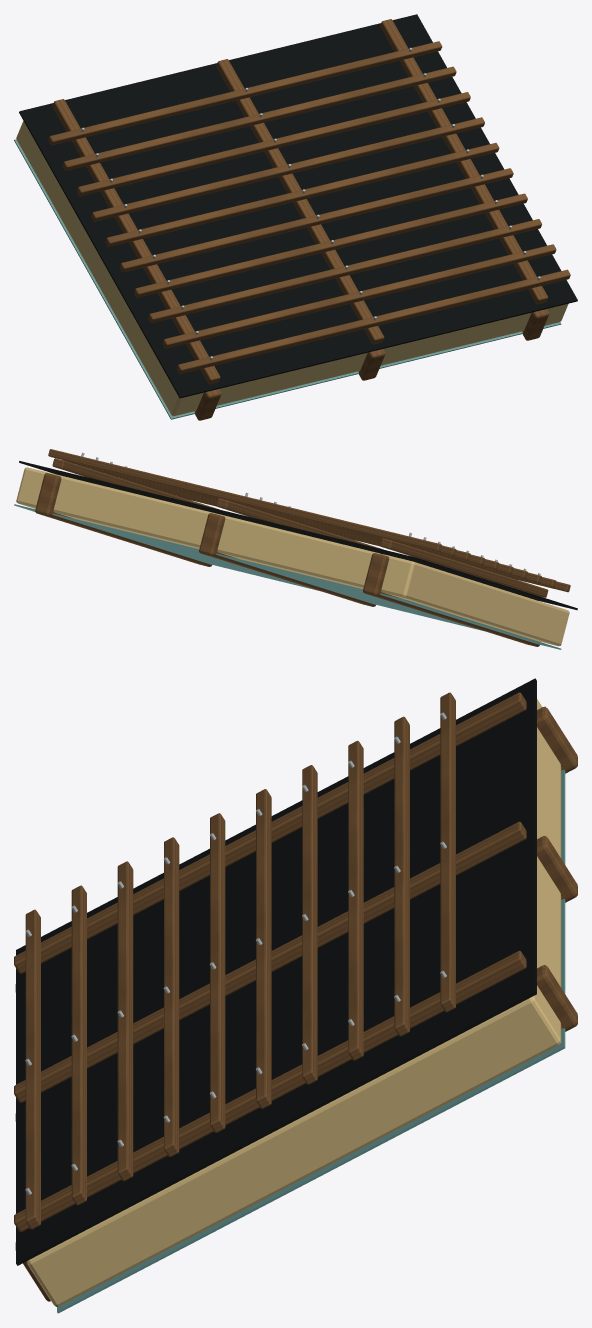
The model's file is modell.glb.
The picture shows the model from 3 angles, top to bottom: view 1: azimuth 30°, elevation 25°; view 2: azimuth 150°, elevation 25°; view 3: azimuth 270°, elevation 25°; orthographic projection. The views are drawn at different scales.
Parts seen in each view (by area): view 1: g03-zusatzebene_zusatzebene, g03-lattung_lattung, g03-anschluss_daemmung, g03-daemmung_daemmung, g03-luftdichtheit_luftdichtheit, g03-sparren_tragwerk; view 2: g03-daemmung_daemmung, g03-lattung_lattung, g03-anschluss_daemmung, g03-sparren_tragwerk, g03-luftdichtheit_luftdichtheit, g03-zusatzebene_zusatzebene; view 3: g03-zusatzebene_zusatzebene, g03-lattung_lattung, g03-daemmung_daemmung, g03-luftdichtheit_luftdichtheit, g03-sparren_tragwerk, g03-befestigung_lattung.
Boxes of the visible parts, x1=… form: g03-zusatzebene_zusatzebene: x1=19, y1=14, x2=577, y2=398; g03-lattung_lattung: x1=48, y1=19, x2=570, y2=384; g03-anschluss_daemmung: x1=16, y1=121, x2=203, y2=416; g03-daemmung_daemmung: x1=217, y1=303, x2=568, y2=405; g03-luftdichtheit_luftdichtheit: x1=14, y1=139, x2=561, y2=419; g03-sparren_tragwerk: x1=194, y1=309, x2=548, y2=420; g03-daemmung_daemmung: x1=16, y1=467, x2=381, y2=588; g03-lattung_lattung: x1=48, y1=449, x2=570, y2=597; g03-anschluss_daemmung: x1=381, y1=554, x2=569, y2=646; g03-sparren_tragwerk: x1=35, y1=473, x2=539, y2=646; g03-luftdichtheit_luftdichtheit: x1=14, y1=504, x2=561, y2=649; g03-zusatzebene_zusatzebene: x1=19, y1=461, x2=577, y2=610; g03-zusatzebene_zusatzebene: x1=16, y1=678, x2=536, y2=1265; g03-lattung_lattung: x1=14, y1=692, x2=526, y2=1232; g03-daemmung_daemmung: x1=27, y1=727, x2=561, y2=1306; g03-luftdichtheit_luftdichtheit: x1=57, y1=769, x2=565, y2=1313; g03-sparren_tragwerk: x1=15, y1=706, x2=577, y2=1301; g03-befestigung_lattung: x1=25, y1=712, x2=446, y2=1194.
Bounding box in the file's own units: 2.09 × 1.07 × 1.59.
Materials: 5 (1 with a texture image).
